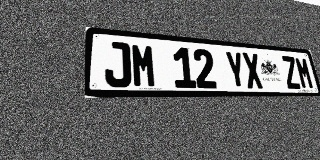1: (172, 46, 197, 88)
2: (193, 48, 217, 88)
J: (104, 41, 132, 87)
M: (131, 43, 157, 88), (294, 57, 315, 89)
X: (242, 52, 264, 89)
Y: (224, 51, 247, 88)
Z: (281, 56, 302, 89)
